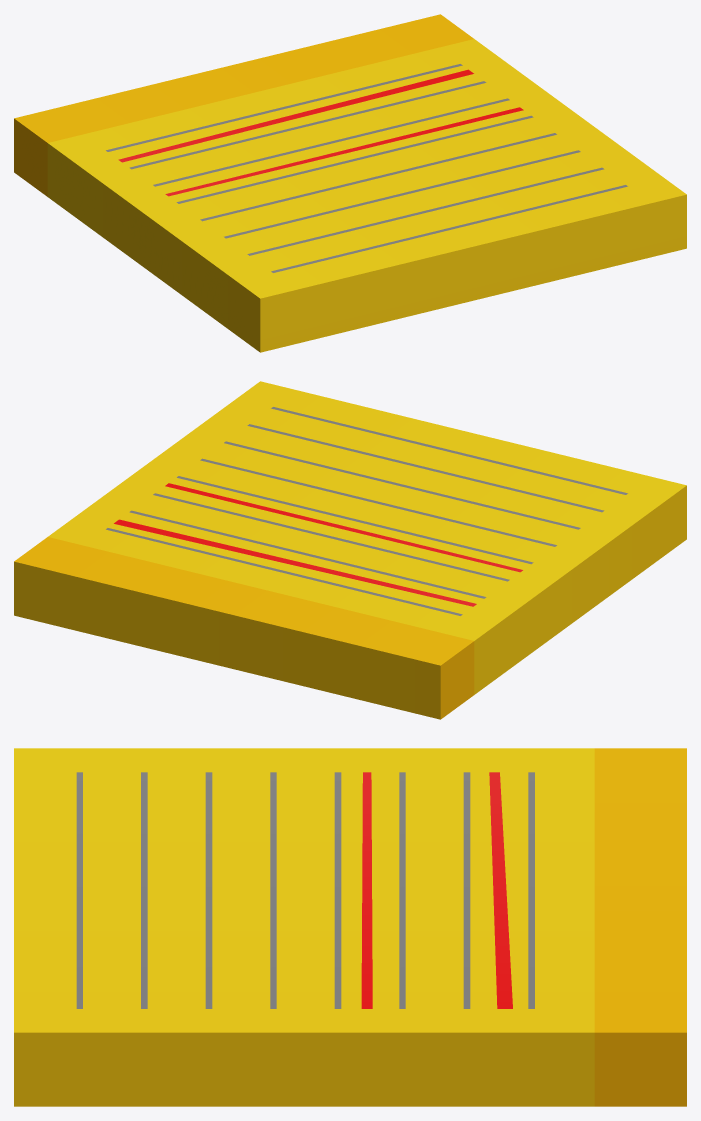
File: CR_Postit_002.FBX
3 renders of one model, top to bottom at view 1: azimuth 30°, elevation 25°; view 2: azimuth 150°, elevation 25°; view 3: azimuth 270°, elevation 25°, orthographic. The views are drawn at different scales.
Parts seen in each view (by area): view 1: CR_Postit_002; view 2: CR_Postit_002; view 3: CR_Postit_002.
Part boxes in pixels (x1,y1,x2,y2): CR_Postit_002: (14, 14, 686, 352); CR_Postit_002: (14, 381, 686, 719); CR_Postit_002: (14, 748, 686, 1106).
Size of the model in its own units: 5.64 by 0.6828 by 5.64.
1 material, 1 textured.
